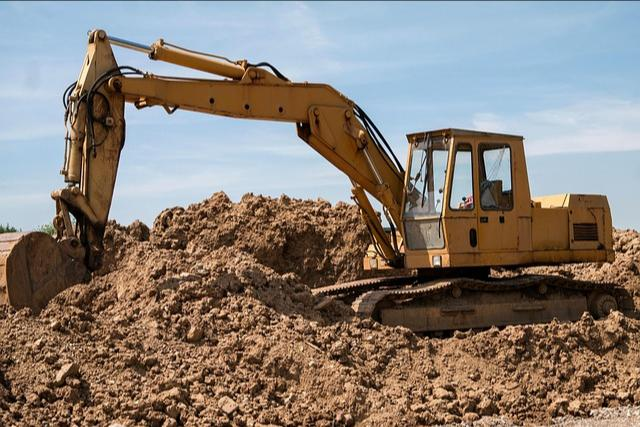Non_Gorille: (40, 20, 635, 391)
